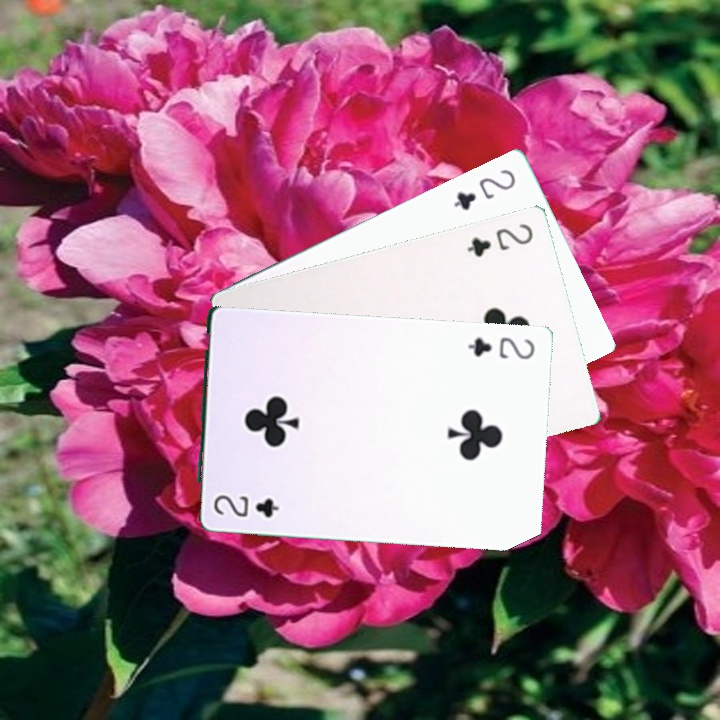2c: (450, 165, 519, 213), (462, 219, 536, 260), (464, 333, 538, 362), (209, 491, 282, 520)
